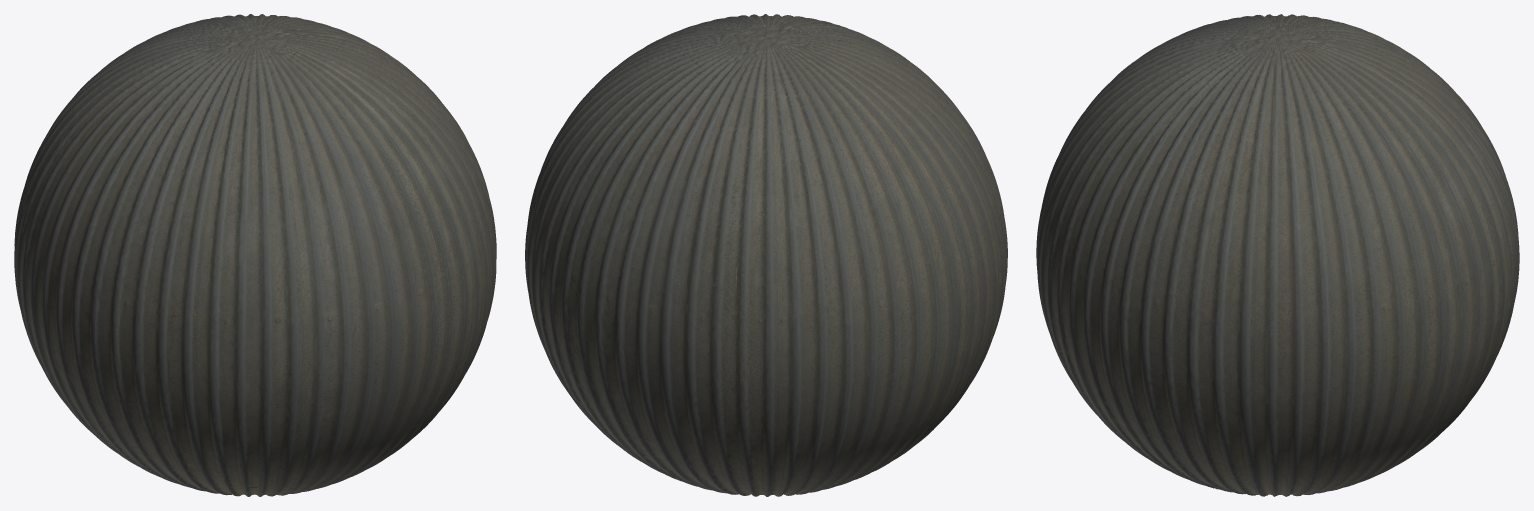
Rendered from corrugated_iron_02_2k.gltf.
The picture shows the model from 3 angles, left to right: view 1: azimuth 30°, elevation 25°; view 2: azimuth 150°, elevation 25°; view 3: azimuth 270°, elevation 25°; orthographic projection.
Visible parts, largest first — view 1: sphere_gltf; view 2: sphere_gltf; view 3: sphere_gltf.
Boxes of the visible parts, bbox=[...] form: sphere_gltf: bbox=[14, 14, 496, 496]; sphere_gltf: bbox=[525, 14, 1007, 496]; sphere_gltf: bbox=[1036, 14, 1519, 496].
Bounding box in the file's own units: 2.71 × 2.71 × 2.71.
1 material, 1 textured.
